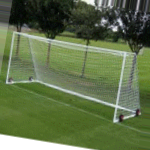goals: (6, 30, 143, 123)
